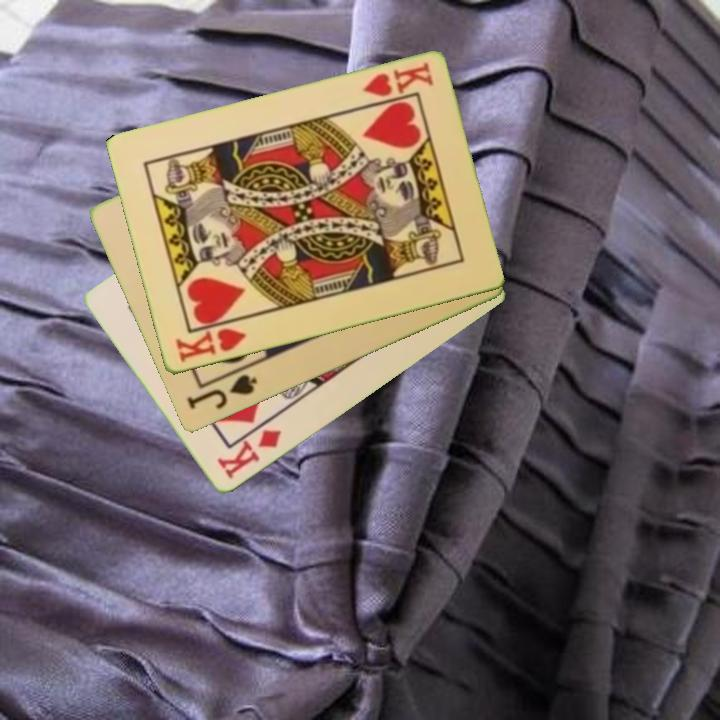Js: (183, 371, 261, 413)
Kd: (213, 426, 284, 483)
Kh: (172, 316, 249, 366), (359, 59, 436, 101)
